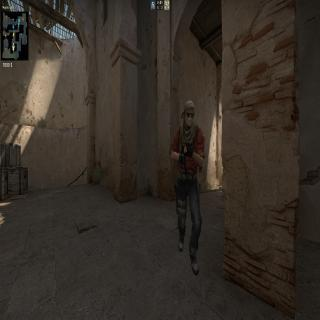T-Head: (182, 98, 196, 130)
